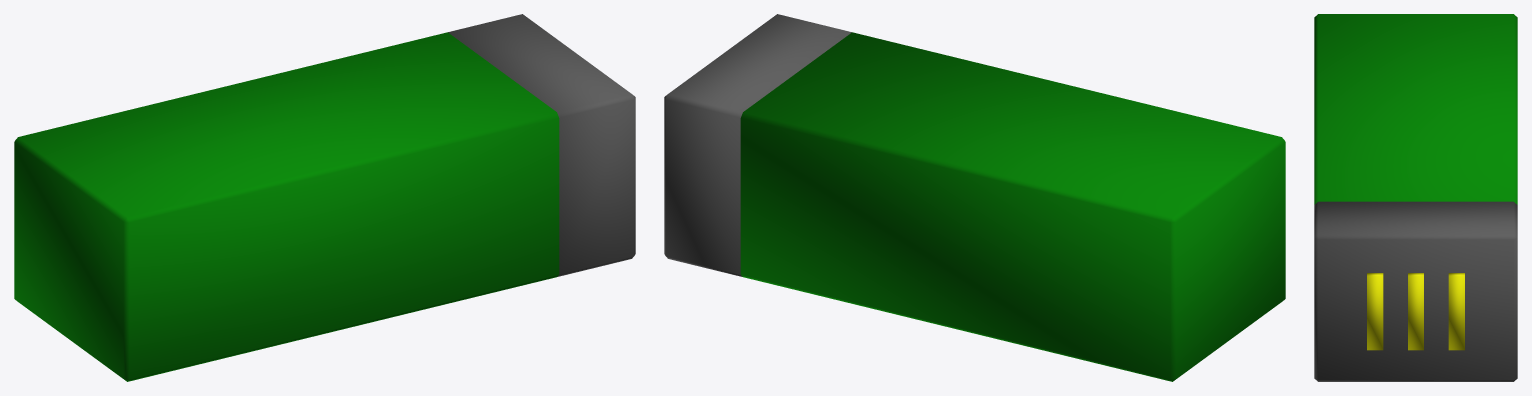
The model's file is battery_green.dae.
The picture shows the model from 3 angles, left to right: view 1: azimuth 30°, elevation 25°; view 2: azimuth 150°, elevation 25°; view 3: azimuth 270°, elevation 25°; orthographic projection. The views are drawn at different scales.
Parts seen in each view (by area): view 1: battery_base; view 2: battery_base; view 3: battery_base.
Boxes of the visible parts, <box> form: battery_base: <box>14,14,635,381</box>; battery_base: <box>664,14,1285,381</box>; battery_base: <box>1314,14,1517,381</box>.
Size of the model in its own units: 0.132 by 0.05 by 0.04.
